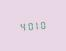four: (18, 21, 24, 31)
one: (32, 20, 38, 30)
zero: (25, 20, 31, 31), (39, 19, 45, 29)
